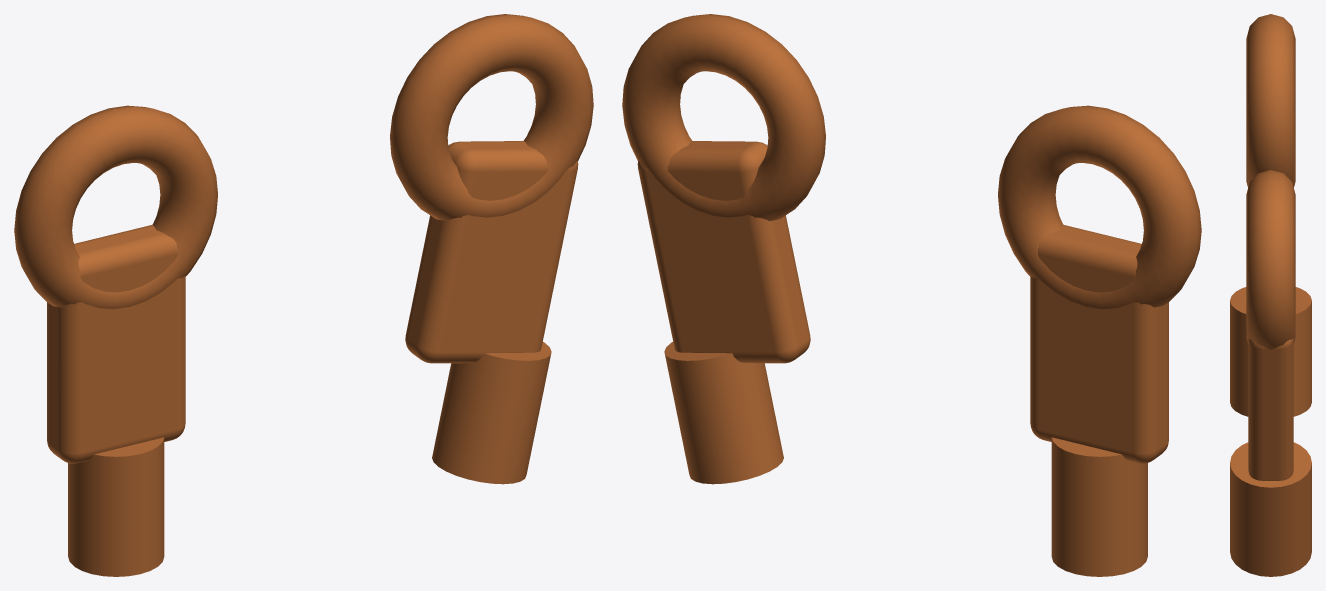
Rendered from battery_lugs_pair.glb.
3 views of the same model, side by side, from view 1: azimuth 30°, elevation 25°; view 2: azimuth 150°, elevation 25°; view 3: azimuth 270°, elevation 25° (orthographic). The views are drawn at different scales.
Parts seen in each view (by area): view 1: Copper lug barrel (×2), Copper lug ring (×2), Cable crimp barrel (×2); view 2: Copper lug barrel (×2), Copper lug ring (×2), Cable crimp barrel (×2); view 3: Copper lug ring (×2), Cable crimp barrel (×2), Copper lug barrel.
Boxes of the visible parts, bbox=[...] form: Copper lug barrel (×2): bbox=[47, 141, 578, 463]; Copper lug ring (×2): bbox=[14, 14, 593, 309]; Cable crimp barrel (×2): bbox=[68, 342, 551, 576]; Copper lug barrel (×2): bbox=[637, 141, 1168, 463]; Copper lug ring (×2): bbox=[622, 14, 1201, 309]; Cable crimp barrel (×2): bbox=[664, 342, 1147, 576]; Copper lug ring (×2): bbox=[1246, 14, 1295, 349]; Cable crimp barrel (×2): bbox=[1230, 287, 1311, 576]; Copper lug barrel: bbox=[1248, 338, 1293, 480].
Size of the model in its own units: 0.274 by 0.2082 by 0.04.
